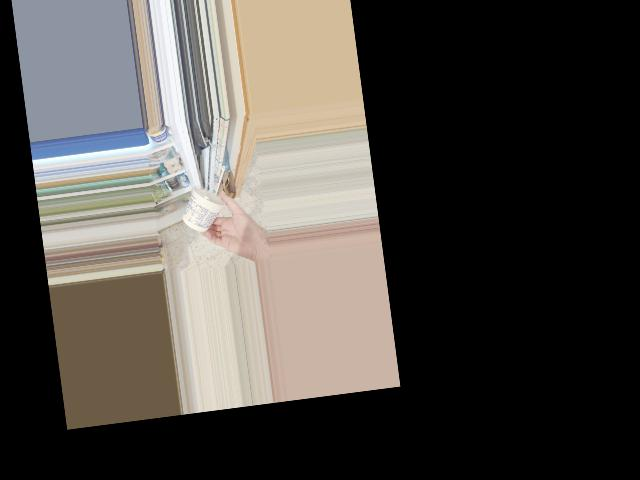cotage: (184, 181, 225, 227)
